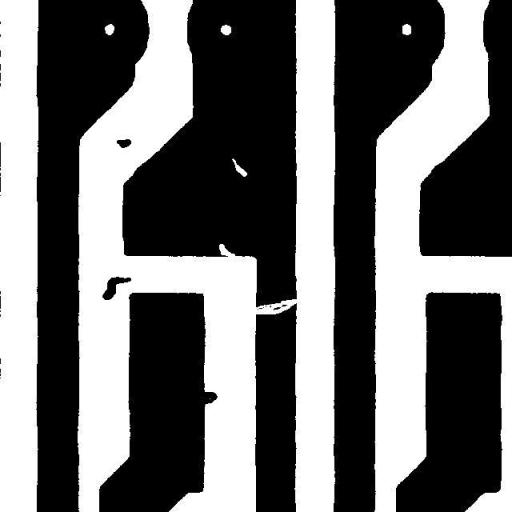copper: (94, 269, 138, 307), (109, 131, 138, 155)
mousebite: (212, 236, 242, 265)
open: (238, 291, 306, 322)
pin-hole: (224, 150, 254, 184)
spur: (194, 384, 224, 411)
